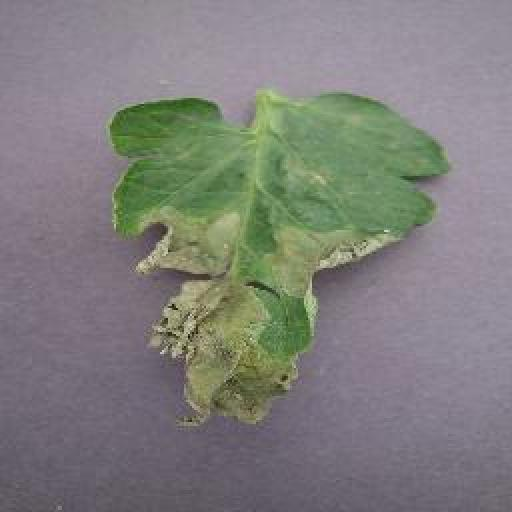disease_tomato: (108, 84, 454, 430)
